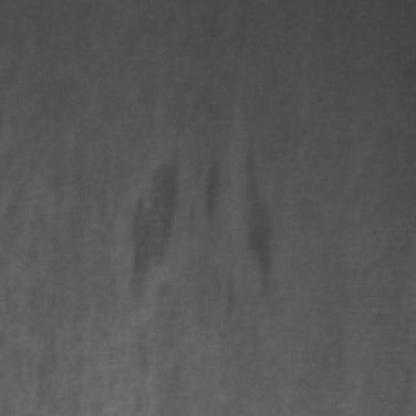inclusion: (115, 146, 191, 298), (225, 133, 287, 300), (183, 150, 233, 231)
